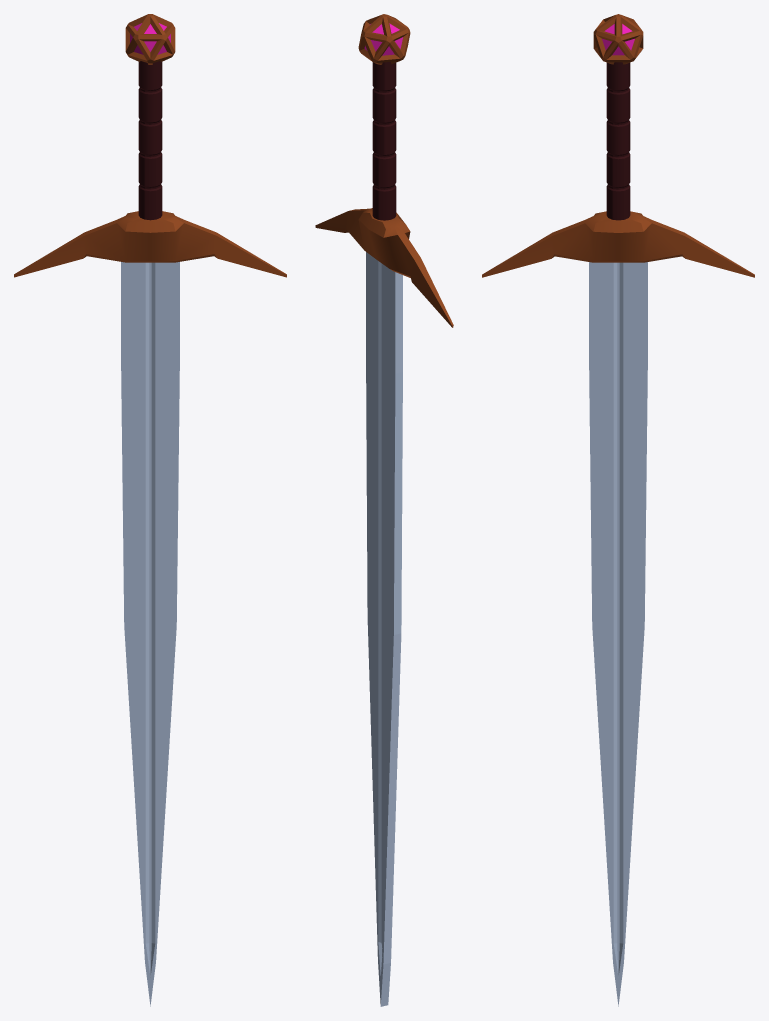
Rendered from Sword.fbx.
3 renders of one model, left to right at view 1: azimuth 90°, elevation 25°; view 2: azimuth 210°, elevation 25°; view 3: azimuth 270°, elevation 25°, orthographic.
Visible parts, largest first — view 1: Sword; view 2: Sword; view 3: Sword.
Boxes of the visible parts, box(x1,y1,x2,y2) form: Sword: box(14, 14, 286, 1006); Sword: box(315, 14, 453, 1006); Sword: box(482, 14, 754, 1006).
Size of the model in its own units: 44.42 by 930 by 232.
